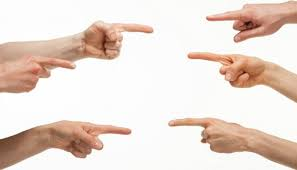hand: (159, 104, 256, 162), (45, 112, 139, 163), (180, 43, 274, 94), (74, 14, 159, 65), (193, 1, 293, 38), (1, 57, 77, 98)
